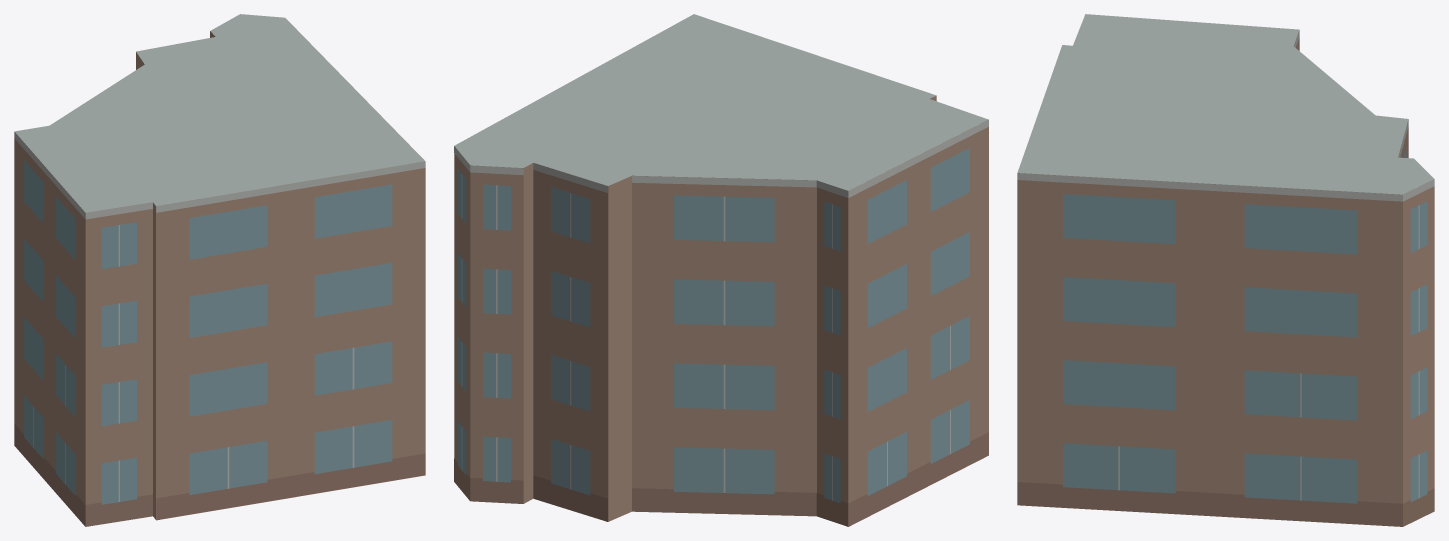
Rendered from survey-upis-32984677.glb.
3 views of the same model, side by side, from view 1: azimuth 30°, elevation 25°; view 2: azimuth 150°, elevation 25°; view 3: azimuth 270°, elevation 25° (orthographic). The views are drawn at different scales.
Visible parts, largest first — view 1: survey-upis-32984677.tmp; view 2: survey-upis-32984677.tmp; view 3: survey-upis-32984677.tmp.
Boxes of the visible parts, x1,y1,x2,y2 form: survey-upis-32984677.tmp: (14, 14, 425, 526); survey-upis-32984677.tmp: (454, 14, 988, 526); survey-upis-32984677.tmp: (1017, 14, 1434, 526).
Bounding box in the file's own units: 13.49 × 11.56 × 13.17.
